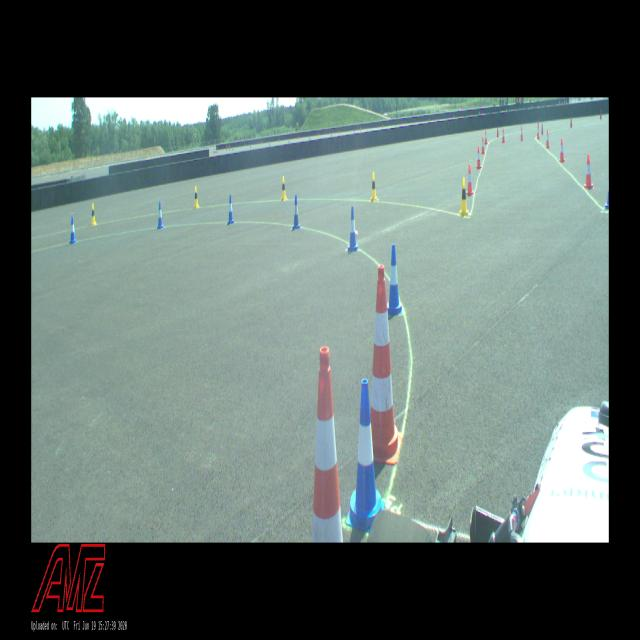blue_cone: (346, 378, 385, 532), (387, 244, 402, 315), (348, 206, 358, 252), (292, 194, 300, 230), (227, 196, 235, 224), (158, 202, 164, 229), (70, 217, 76, 244), (604, 180, 608, 210)
large_orange_cone: (370, 266, 402, 464), (311, 347, 343, 542)
orange_cone: (584, 154, 593, 188), (466, 165, 473, 195), (559, 139, 565, 162), (476, 147, 482, 169), (546, 130, 550, 148), (481, 137, 485, 154), (536, 123, 540, 139), (520, 126, 524, 140), (484, 130, 488, 144), (502, 128, 505, 143)
yellow_cone: (460, 177, 469, 216), (370, 173, 378, 201), (281, 177, 287, 200), (91, 203, 97, 226), (194, 186, 199, 208)
